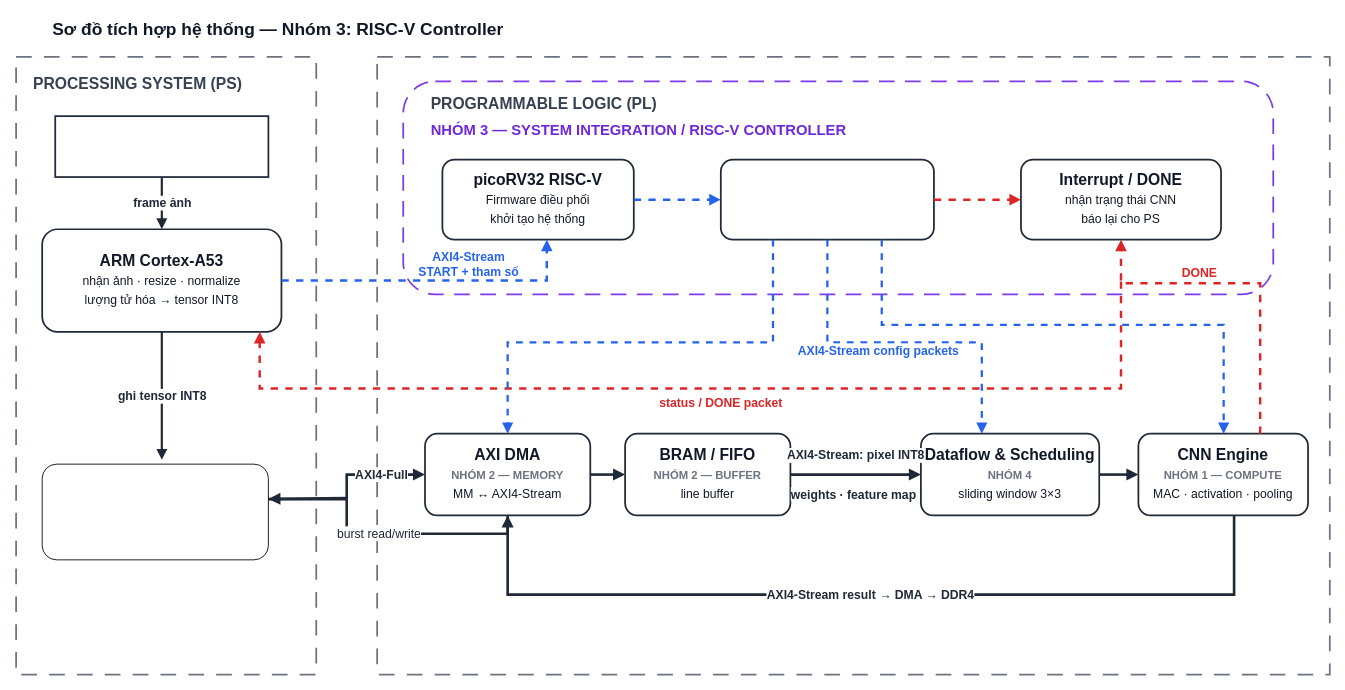
Image size: 1345x690. Some labels were removed from this diagram. Here are the shapes that lost their labels. From the top down, the centre of each, then its label:
the point at 161,146: ESP32-CAM ảnh RGB / JPEG
the point at 826,199: Control / Status AXI4-Stream packet adapter START · config · status
the point at 154,511: DDR4 System Memory tensor INT8 · weights · result
